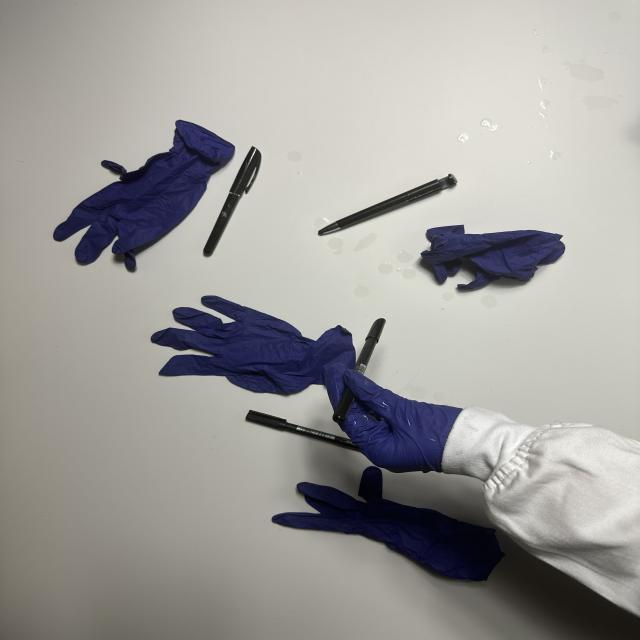gloves_contaminated: (325, 365, 462, 472)
